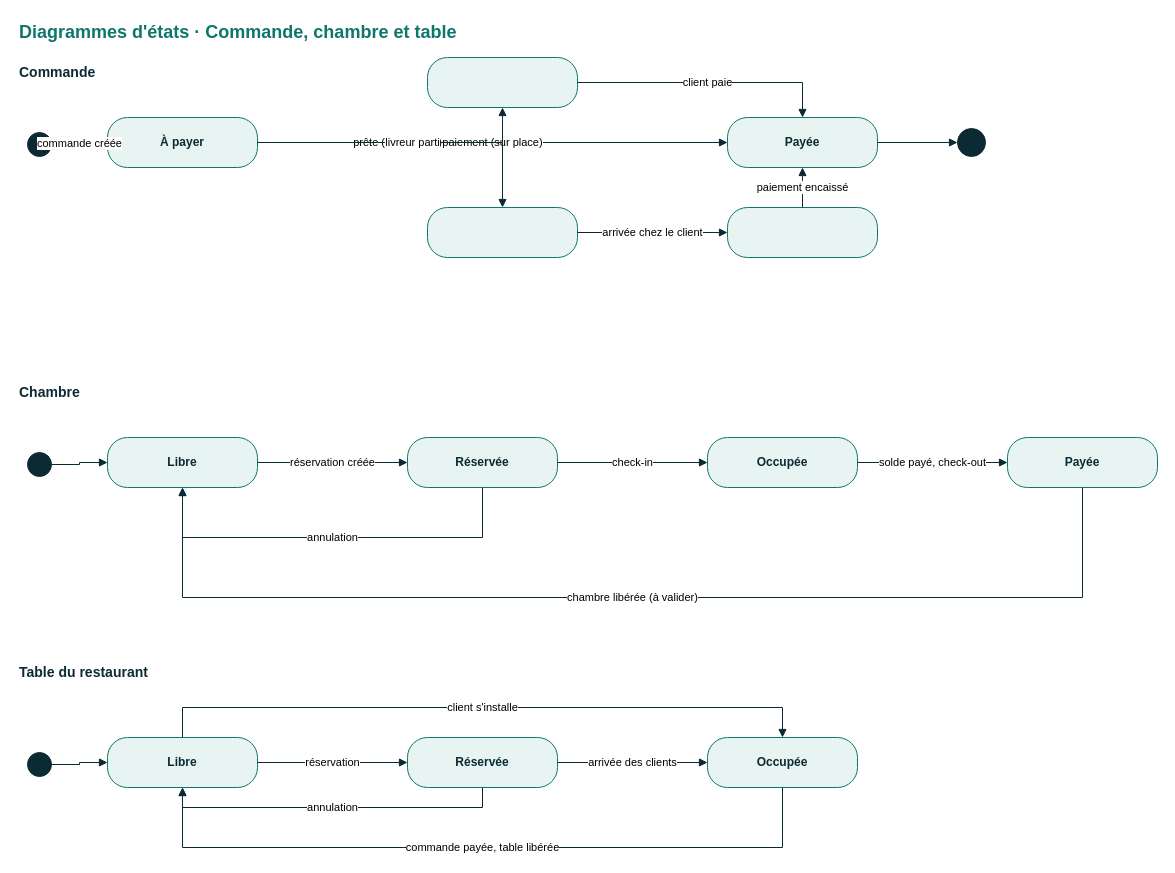
Image size: 1175x873. Some labels were removed from this diagram. Each missing label, with the box of its shape:
En livraison: (426, 206, 578, 258)
Livrée: (726, 206, 878, 258)
À emporter: (426, 56, 578, 108)
